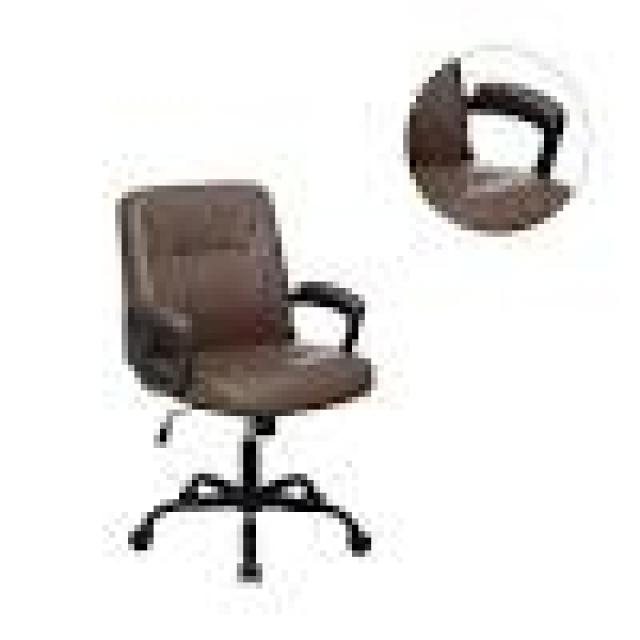chair: (64, 129, 394, 639)
